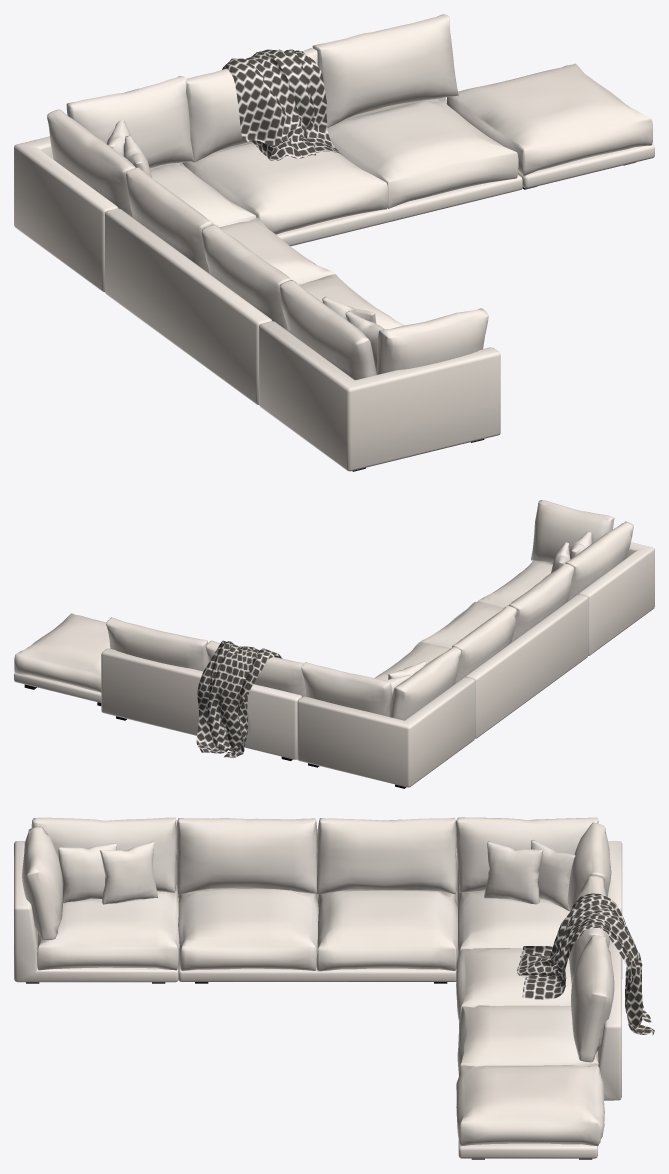
The model's file is L_couch02.fbx.
3 renders of one model, top to bottom at view 1: azimuth 30°, elevation 25°; view 2: azimuth 150°, elevation 25°; view 3: azimuth 270°, elevation 25°, orthographic. The views are drawn at different scales.
Visible parts, largest first — view 1: large sectional couch Low Poly; view 2: large sectional couch Low Poly; view 3: large sectional couch Low Poly.
Part boxes in pixels (<box>): large sectional couch Low Poly: <box>14,14,654,471</box>; large sectional couch Low Poly: <box>14,500,654,788</box>; large sectional couch Low Poly: <box>14,817,654,1159</box>.
Bounding box in the file's own units: 462 × 104 × 509.
